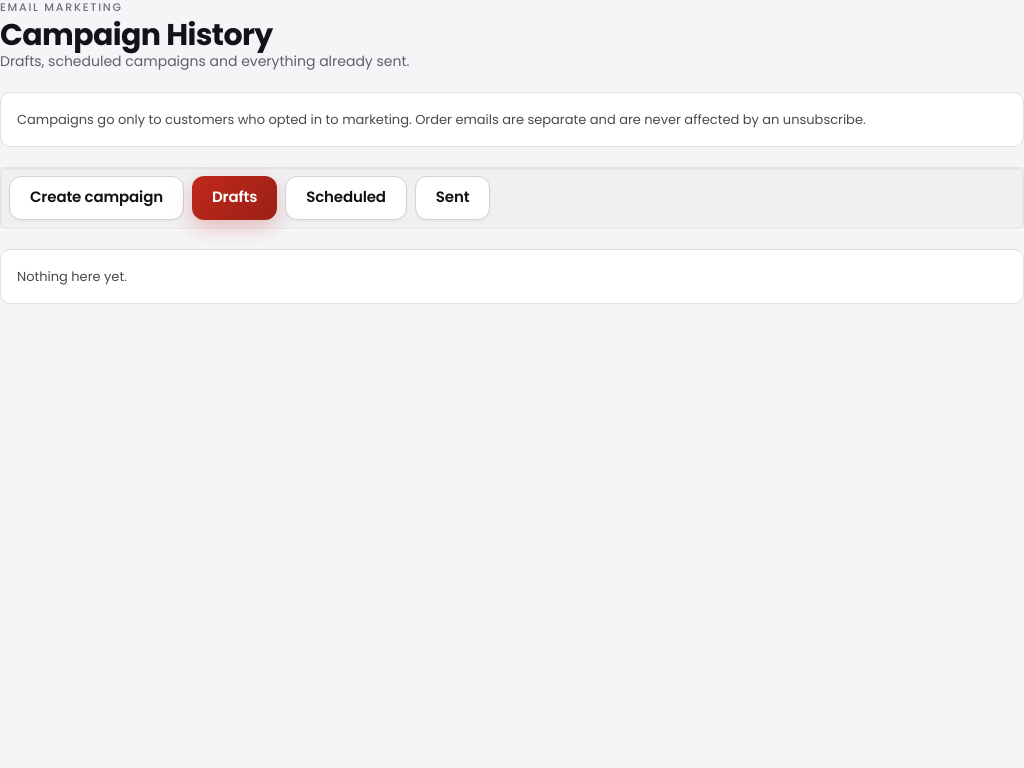
Test: Campaign History: retrying failed recipients › offers a retry only where somebody was not reached
Step 1. Click the button "Sent" → (453, 198), box [415, 176, 490, 220]
(page scrolled)
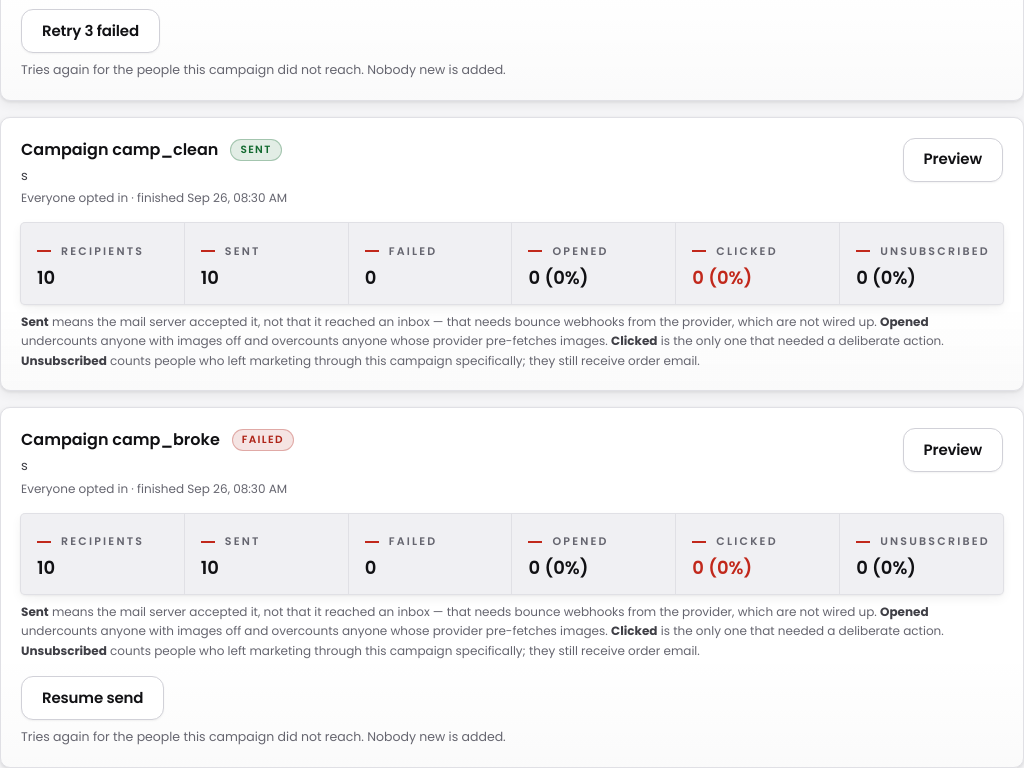
Expected: the button "Retry 3 failed" is shown, [21, 9, 160, 53]
Expected: the button "Resume send" is shown, [21, 676, 164, 720]
Expected: the number of buttons "Retry 3 failed" is 2, [21, 9, 160, 53]; [21, 676, 164, 720]
